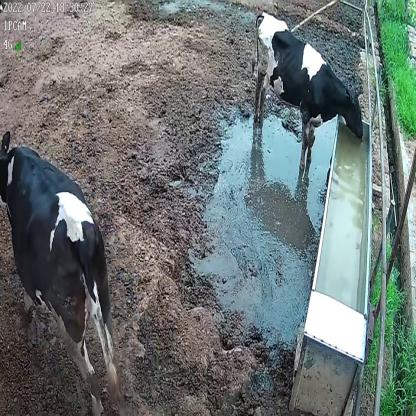cow: (0, 127, 120, 416), (252, 8, 366, 170)
